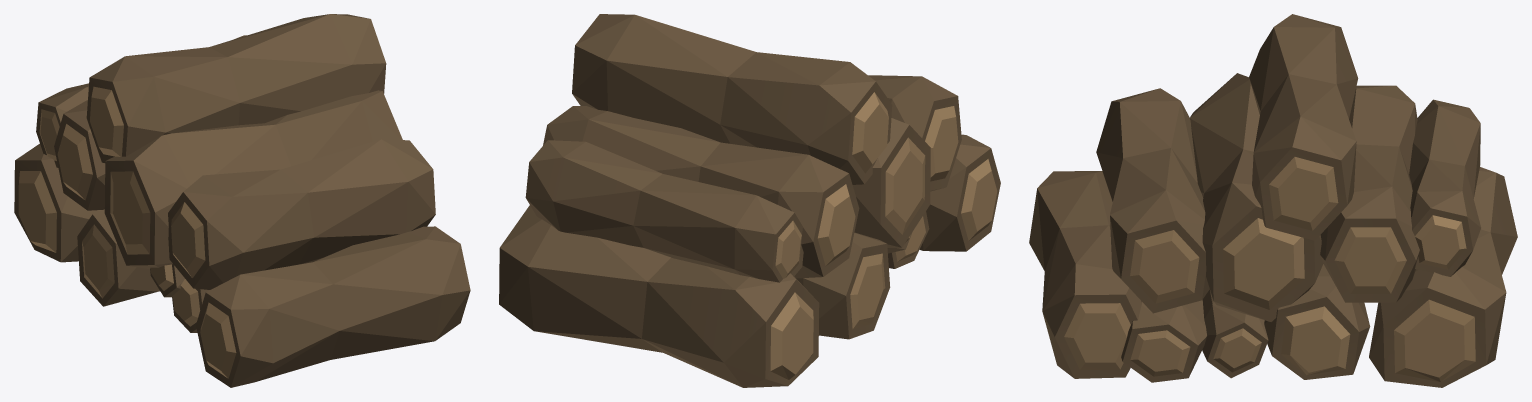
The model's file is Troncos.glb.
The picture shows the model from 3 angles, left to right: view 1: azimuth 30°, elevation 25°; view 2: azimuth 150°, elevation 25°; view 3: azimuth 270°, elevation 25°; orthographic projection. The views are drawn at different scales.
Parts seen in each view (by area): view 1: SM_Prop_Logs_01; view 2: SM_Prop_Logs_01; view 3: SM_Prop_Logs_01.
Boxes of the visible parts, bbox=[...] form: SM_Prop_Logs_01: bbox=[14, 14, 470, 387]; SM_Prop_Logs_01: bbox=[499, 14, 1000, 387]; SM_Prop_Logs_01: bbox=[1029, 14, 1517, 387].
Size of the model in its own units: 1.13 by 0.9761 by 1.68.
1 material, 1 textured.
